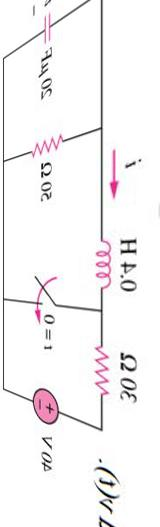inductor: (85, 228, 117, 302)
